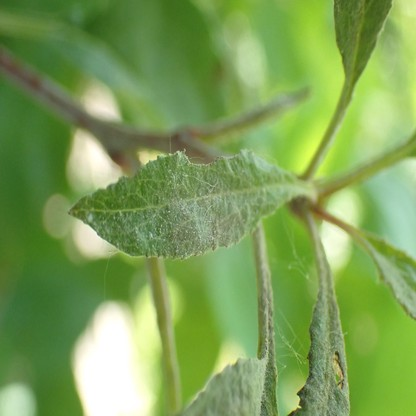powder: (70, 150, 301, 259), (289, 250, 350, 416), (179, 336, 276, 416), (335, 0, 393, 80)
